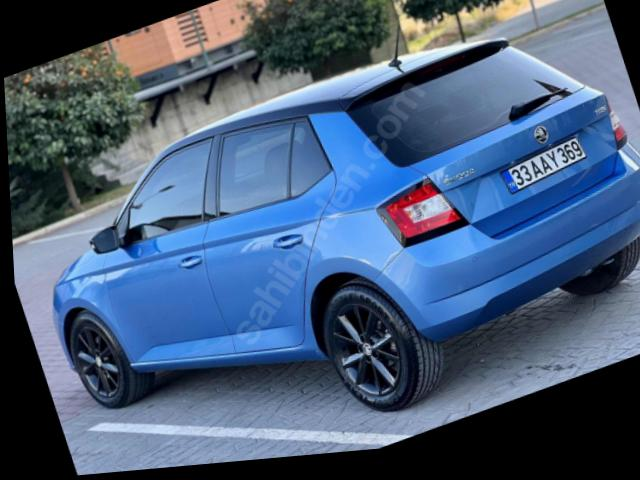plaka: (503, 136, 586, 192)
